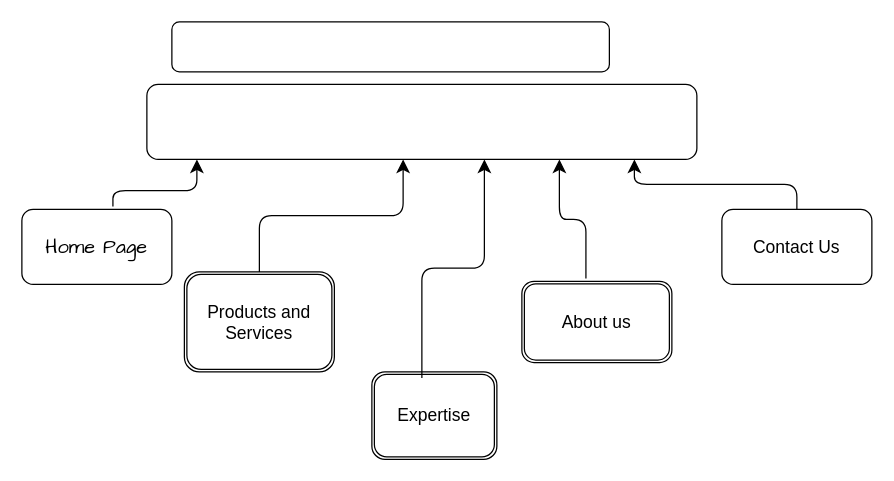
Some shapes in this 894 by 481 pixel diagram are drawn without their labels. The shapes that lost their labels are listed below. From the top down, each one's centre as x and y in pixels, then its label:
the point at 390,46: FAO Agro Commodities Website
the point at 421,121: Index Page
